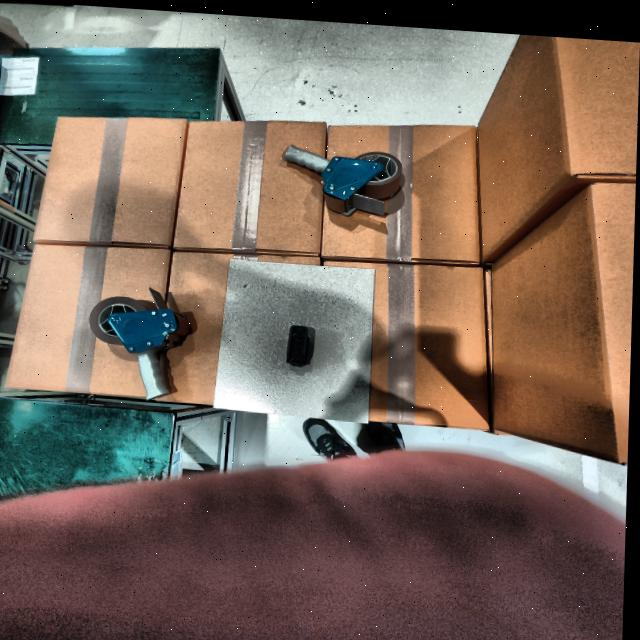P38: (288, 321, 310, 362)
